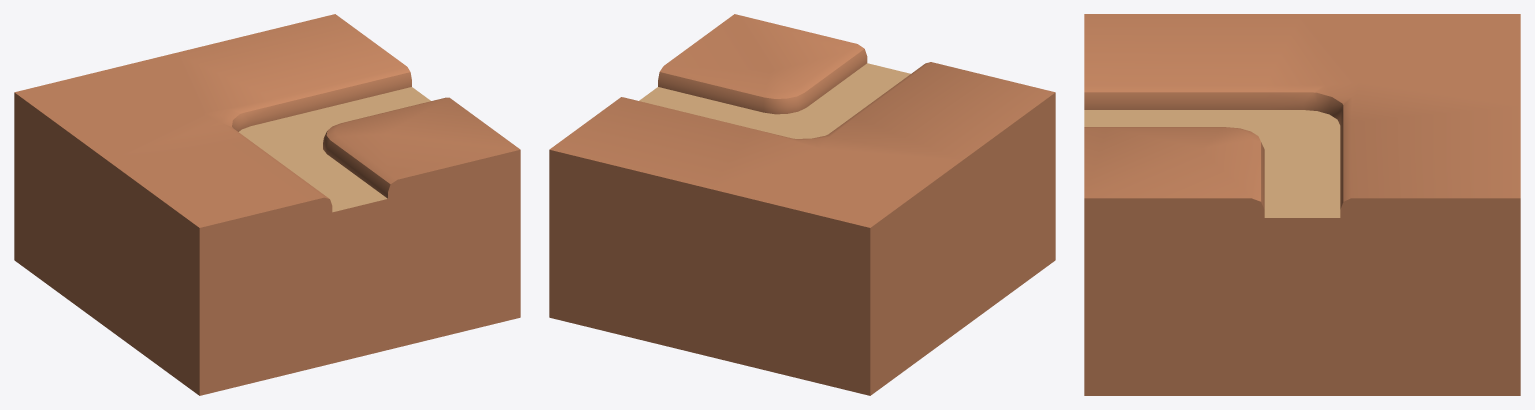
File: square_rock_roadC.glb
3 renders of one model, left to right at view 1: azimuth 30°, elevation 25°; view 2: azimuth 150°, elevation 25°; view 3: azimuth 270°, elevation 25°, orthographic. The views are drawn at different scales.
Parts seen in each view (by area): view 1: square_rock_roadC; view 2: square_rock_roadC; view 3: square_rock_roadC.
Part boxes in pixels (x1,y1,x2,y2): square_rock_roadC: [14, 14, 520, 395]; square_rock_roadC: [549, 14, 1055, 395]; square_rock_roadC: [1084, 14, 1520, 395].
Size of the model in its own units: 3.82 by 1.91 by 3.82.
